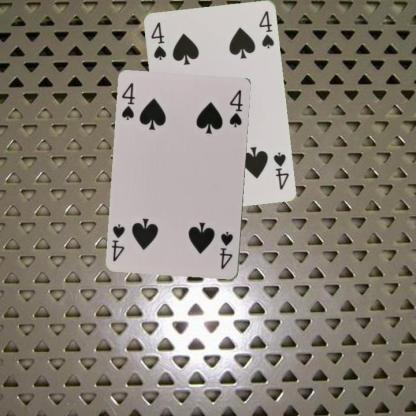4s: (270, 149, 290, 191), (148, 19, 167, 61), (217, 229, 235, 271), (119, 80, 137, 122)
